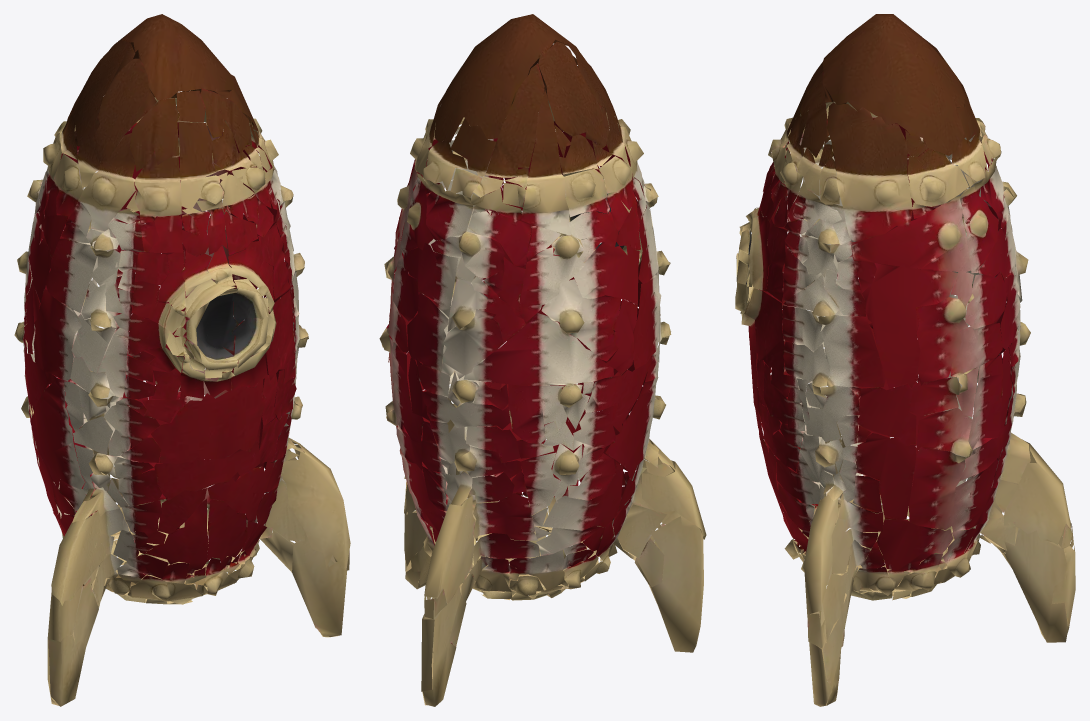
The model's file is rocket.glb.
The picture shows the model from 3 angles, left to right: view 1: azimuth 30°, elevation 25°; view 2: azimuth 150°, elevation 25°; view 3: azimuth 270°, elevation 25°; orthographic projection.
Parts seen in each view (by area): view 1: Mesh_0; view 2: Mesh_0; view 3: Mesh_0.
Part boxes in pixels (box(x1,y1,x2,y2)): Mesh_0: box(14, 14, 350, 706); Mesh_0: box(379, 14, 706, 706); Mesh_0: box(735, 14, 1075, 706).
Size of the model in its own units: 1.25 by 2.5 by 1.24.
1 material, 1 textured.
